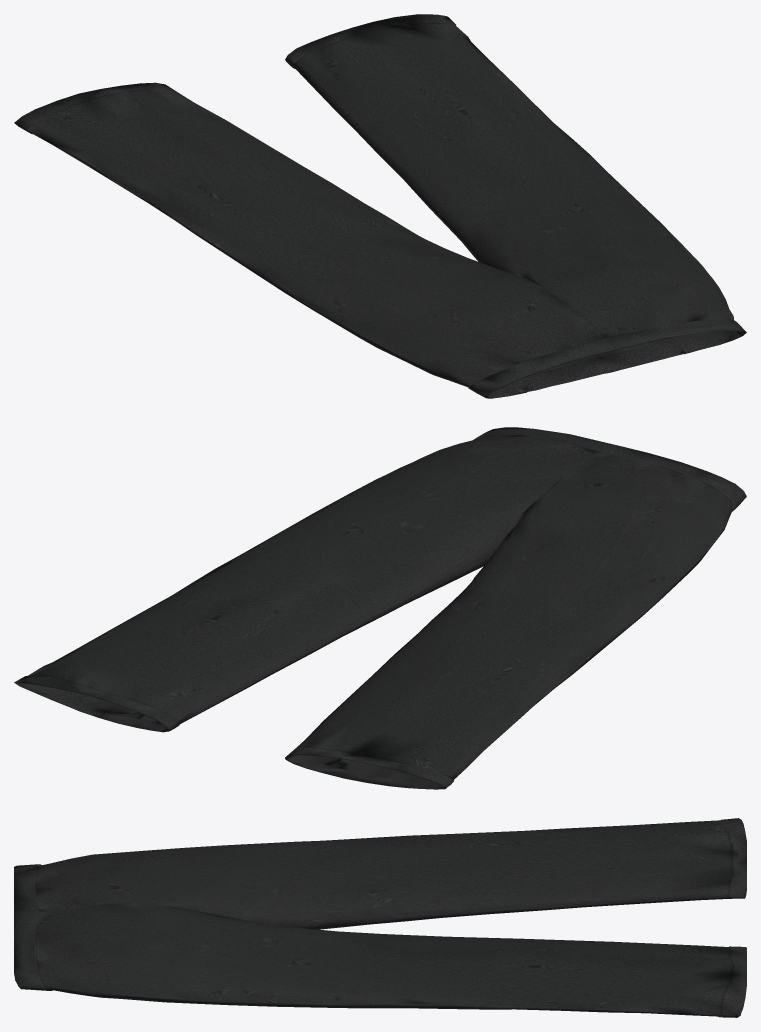
File: M3D_pantalon.fbx
3 views of the same model, one above another, from view 1: azimuth 30°, elevation 25°; view 2: azimuth 150°, elevation 25°; view 3: azimuth 270°, elevation 25° (orthographic). The views are drawn at different scales.
Visible parts, largest first — view 1: SM_pantalon; view 2: SM_pantalon; view 3: SM_pantalon.
Boxes of the visible parts, x1,y1,x2,y2 form: SM_pantalon: (14,14,746,398); SM_pantalon: (14,427,746,789); SM_pantalon: (14,818,746,1017).
Bounding box in the file's own units: 0.511 × 0.0541 × 0.8.
